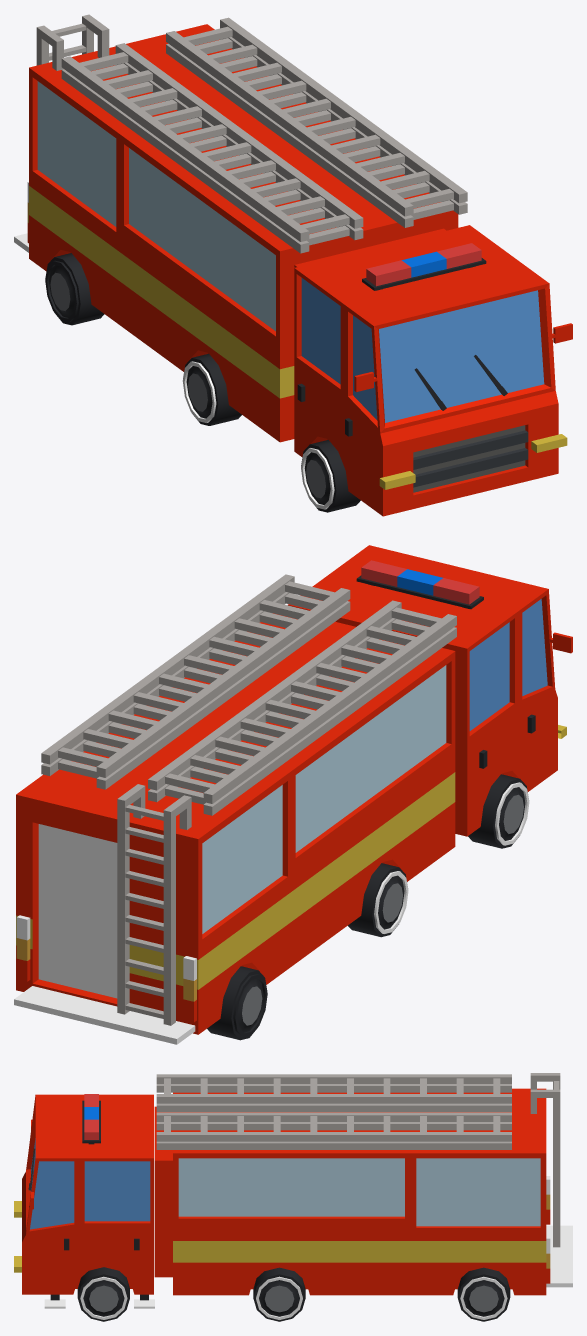
The model's file is Fire Resque_1.fbx.
3 renders of one model, top to bottom at view 1: azimuth 30°, elevation 25°; view 2: azimuth 150°, elevation 25°; view 3: azimuth 270°, elevation 25°, orthographic. The views are drawn at different scales.
Parts seen in each view (by area): view 1: Fire Resque_1; view 2: Fire Resque_1; view 3: Fire Resque_1.
Boxes of the visible parts, x1=… form: Fire Resque_1: x1=14, y1=14, x2=572, y2=516; Fire Resque_1: x1=14, y1=545, x2=572, y2=1044; Fire Resque_1: x1=14, y1=1073, x2=572, y2=1321.
Bounding box in the file's own units: 315 × 351 × 947.
